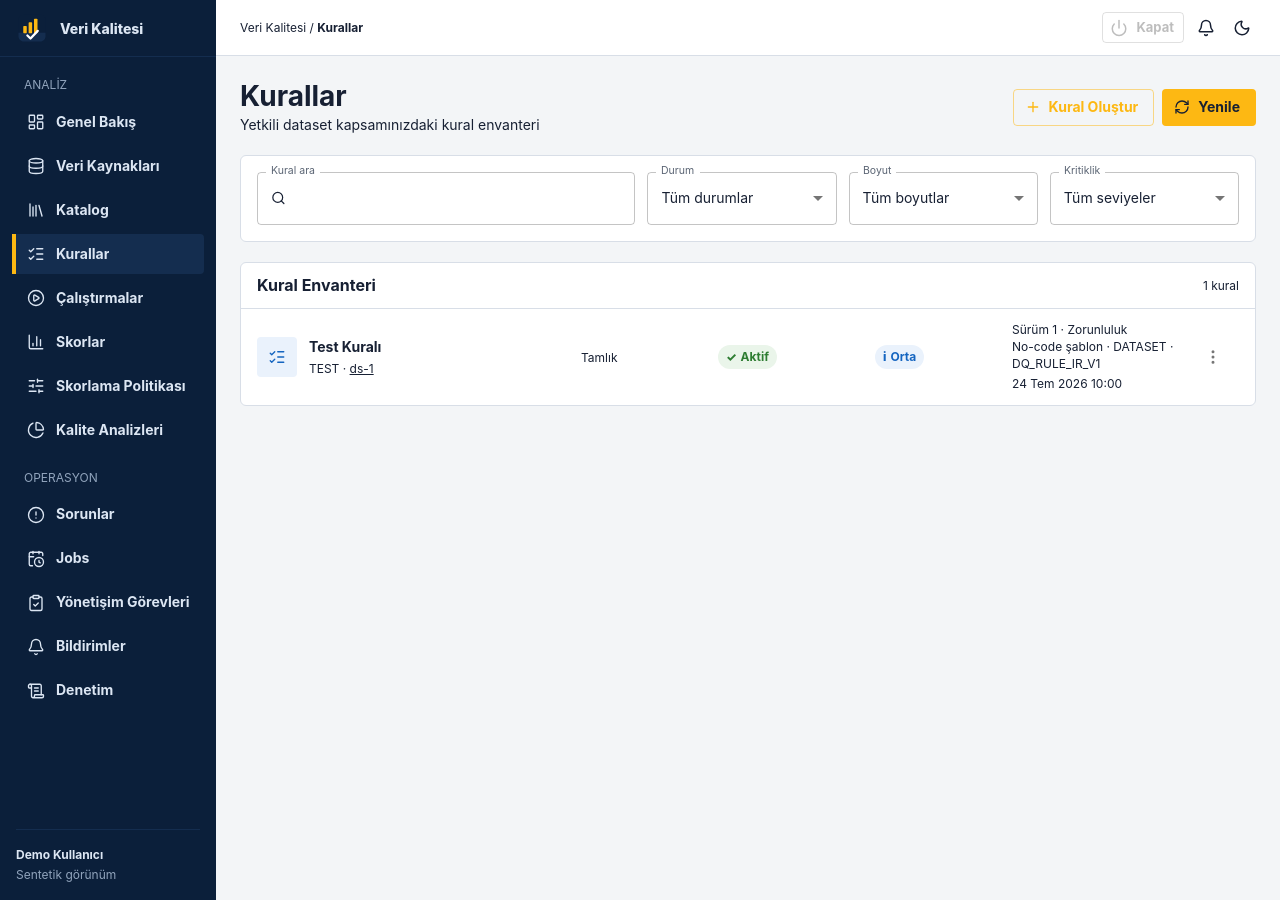
Kural mutasyon dialog'ları › pasifleştirme dialogunda vazgeç butonu iptal eder
Click the button with test id "rule-actions-trigger" at (1213, 357), box [1199,343,1227,371]
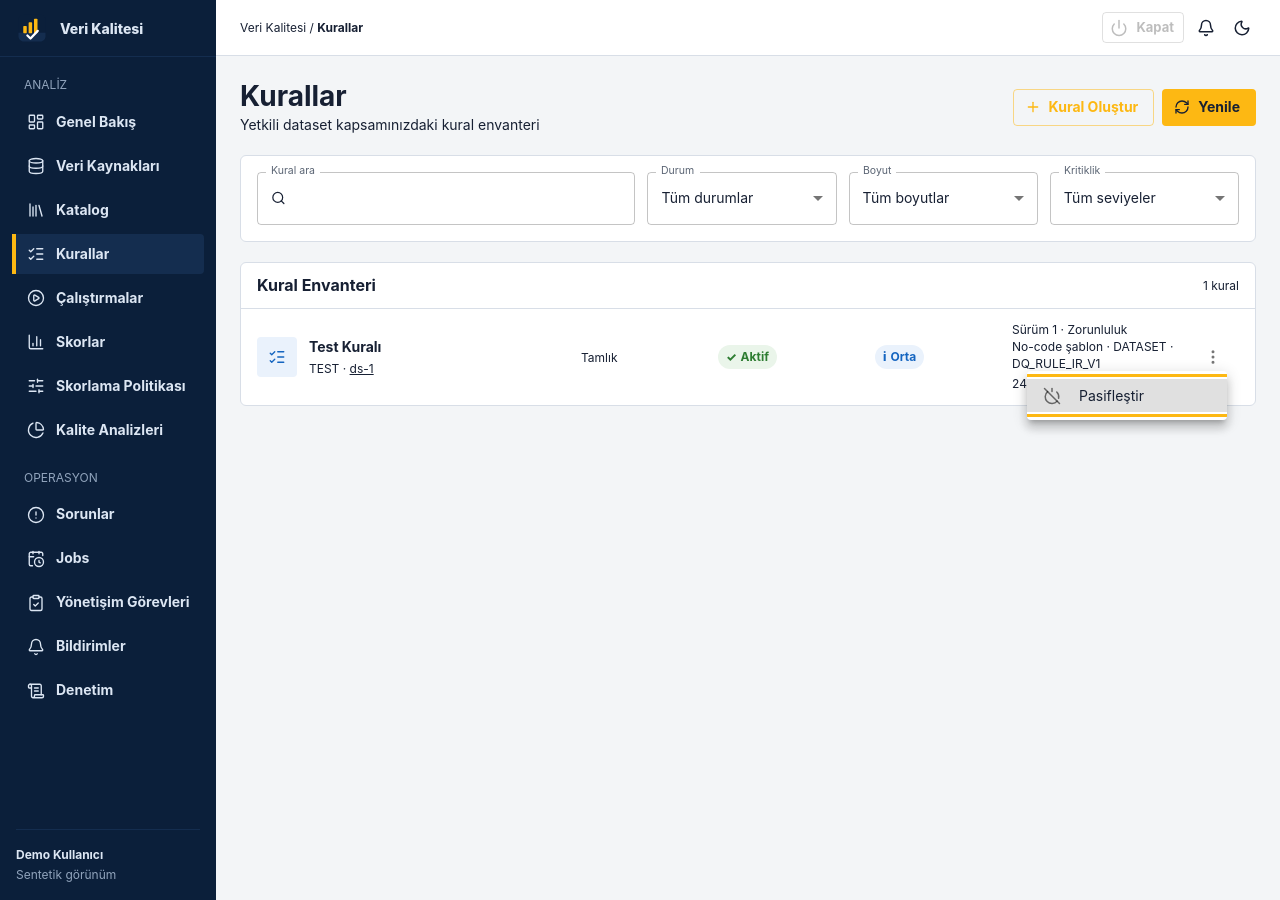
Click the menu item "Pasifleştir" at (1127, 396), box [1027,379,1227,412]
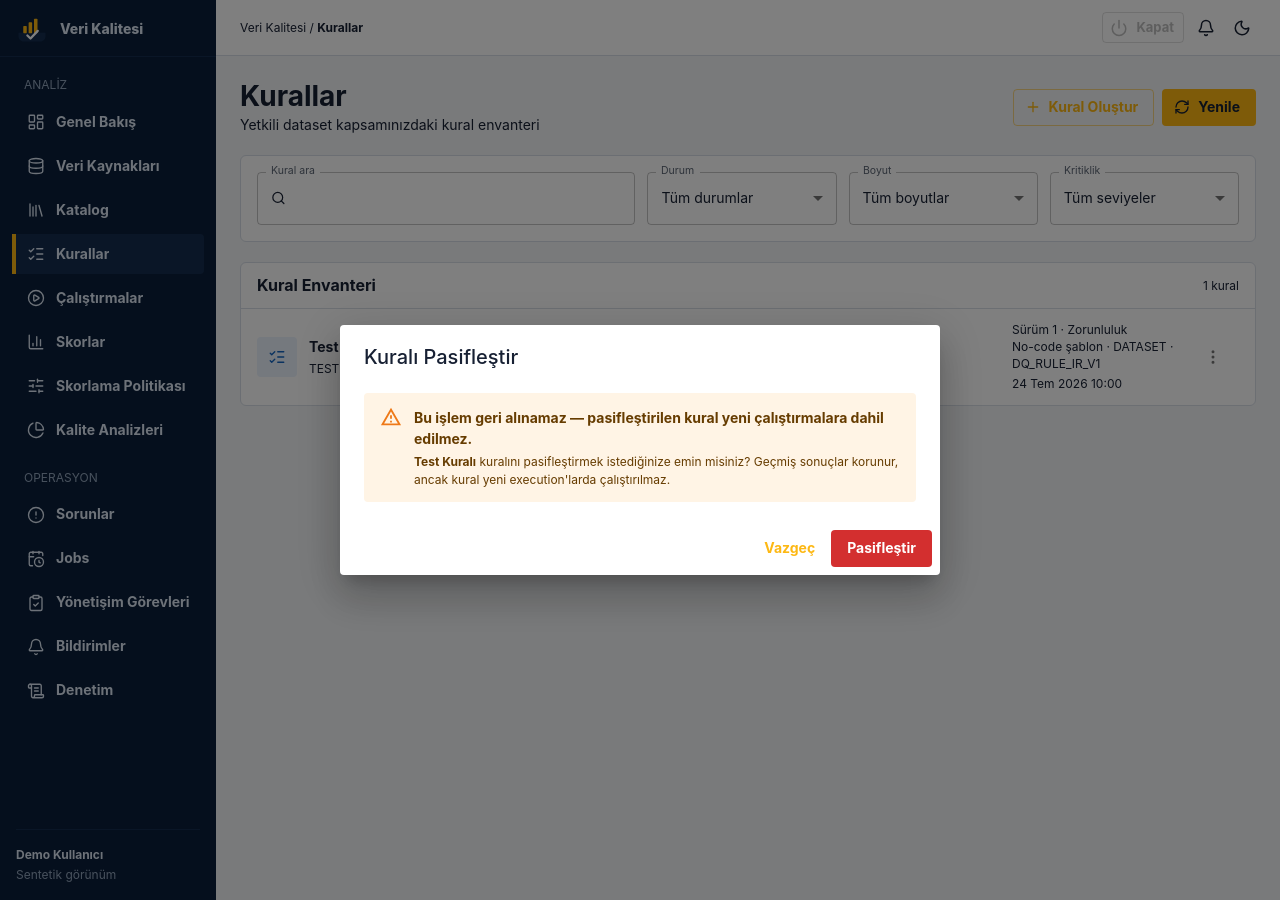
Expected: the heading "Kuralı Pasifleştir" is shown, [364,345,518,369]
Click the button "Vazgeç" at (790, 548), box [756,530,823,567]
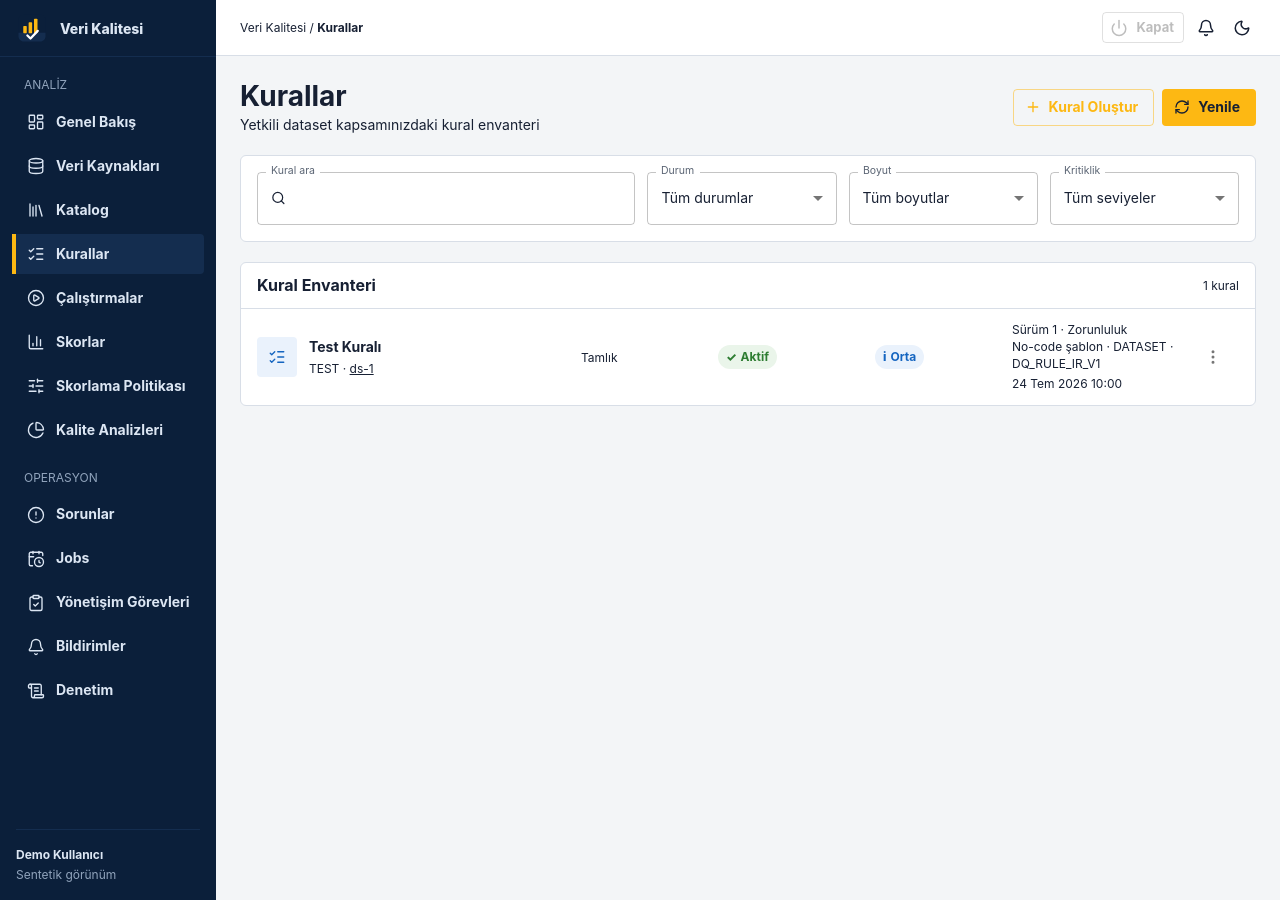
Expected: the heading "Kuralı Pasifleştir" is gone
